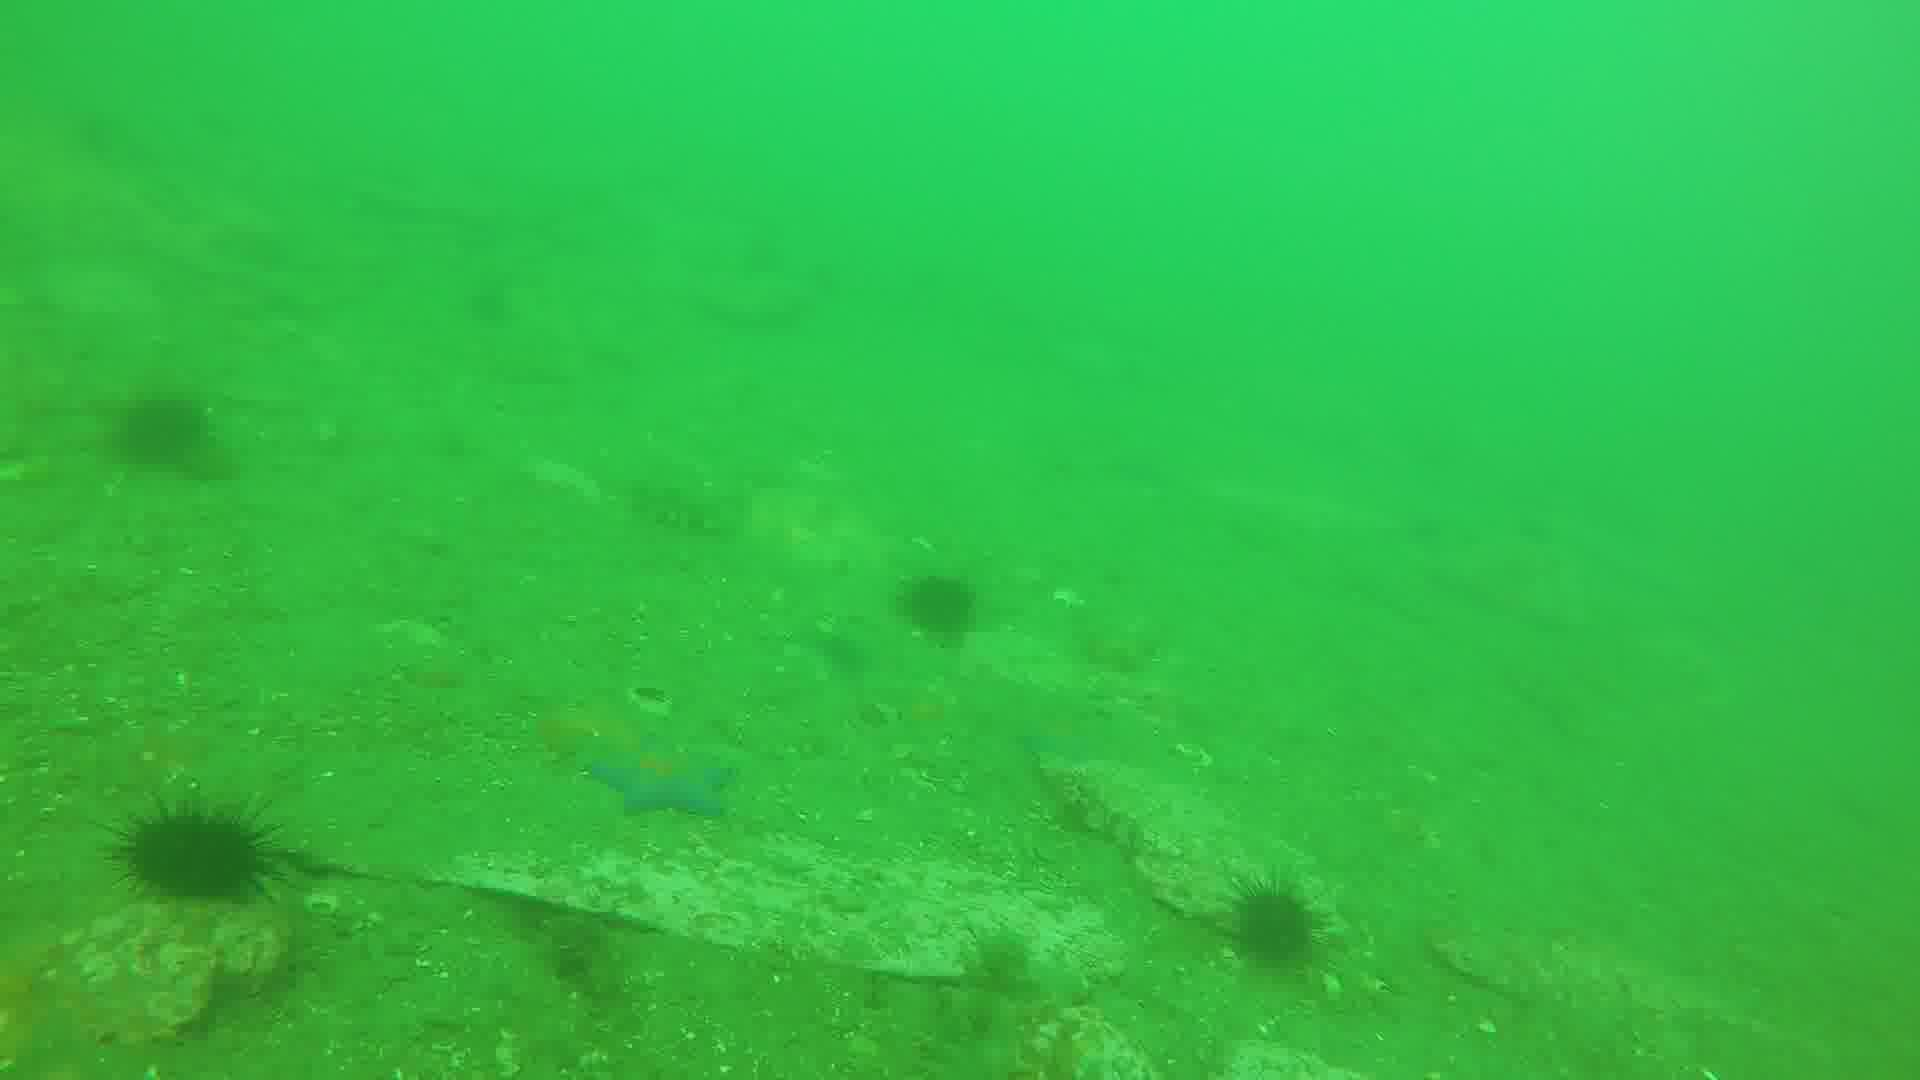echinus: (127, 793, 276, 899), (1229, 865, 1320, 978), (111, 394, 210, 477), (905, 578, 985, 640)
holothurian: (626, 462, 748, 538)
starfish: (592, 725, 737, 825)
